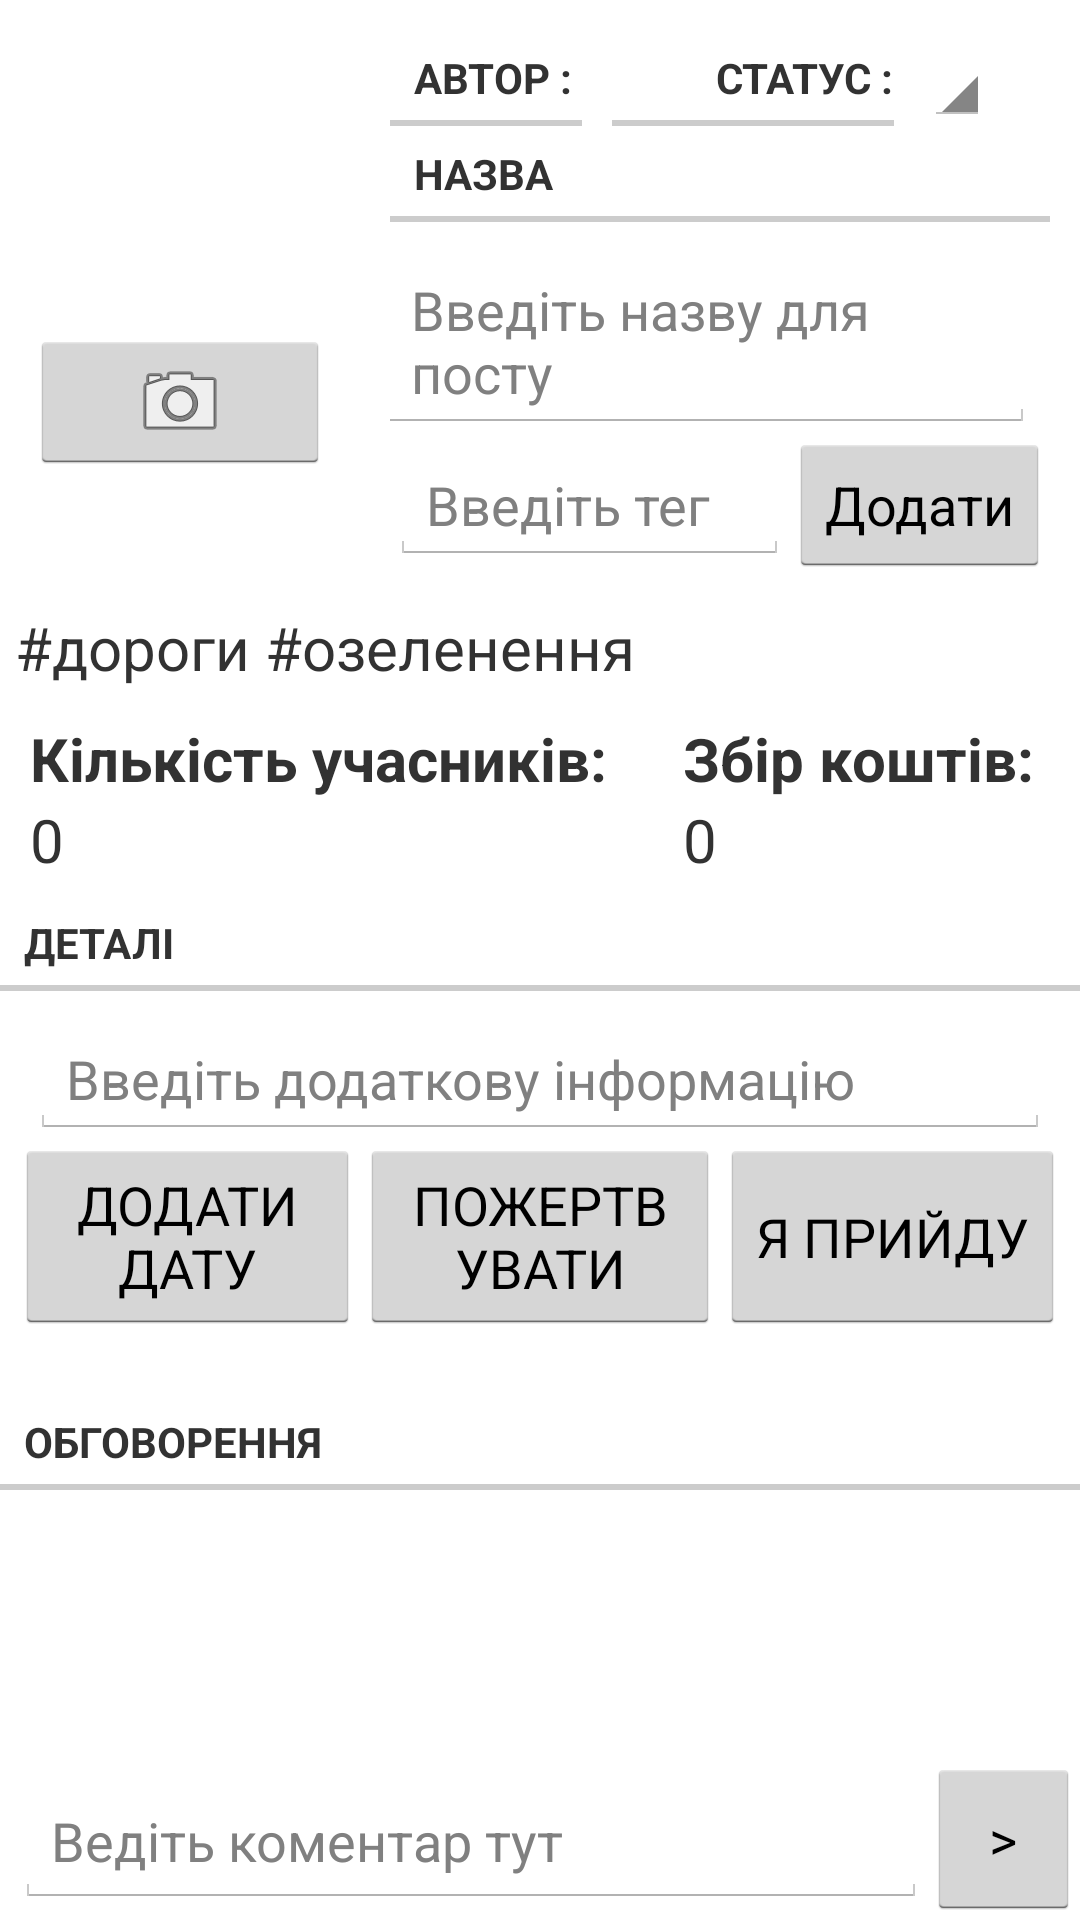

Point at icon controls on the screen. Image size 1080x1920, points as point (x, y).
camera: point (180, 403)
